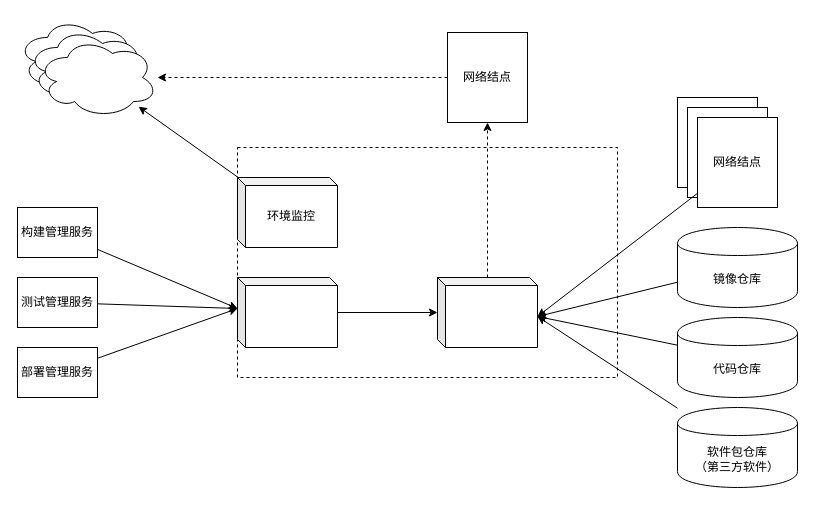
Some shapes in this 815 by 505 pixel diagram are drawn without their labels. The shapes that lost their labels are listed below. From the top down, each one's box as (x1, y1, x2, y2) in pixels, then its label:
(36, 36, 158, 118): 各类集群环境
(236, 276, 338, 348): 任务管理
(436, 276, 538, 348): 环境准备
